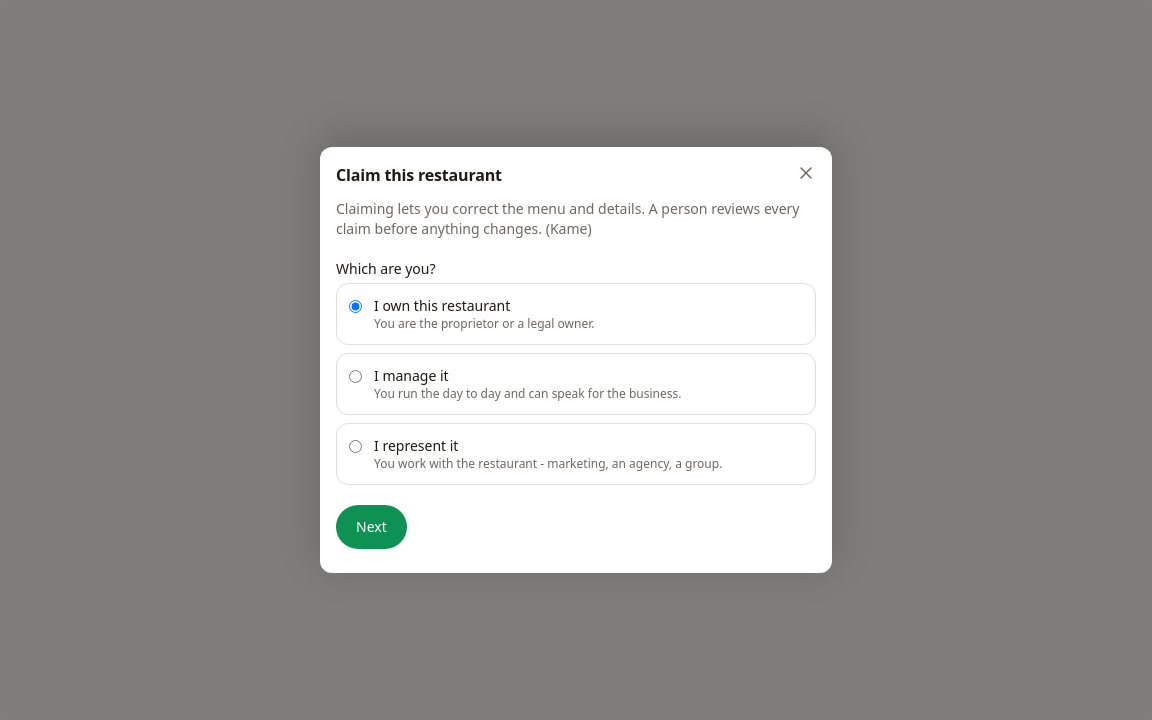
Test case: what it asks for › asks for what the method says it collects
This screenshot has width=1152, height=720.
Expected: the text "Which are you?" is shown, [336,259,436,279]
Step 1. Click the button "Next" → (371, 527), box [336,505,407,549]
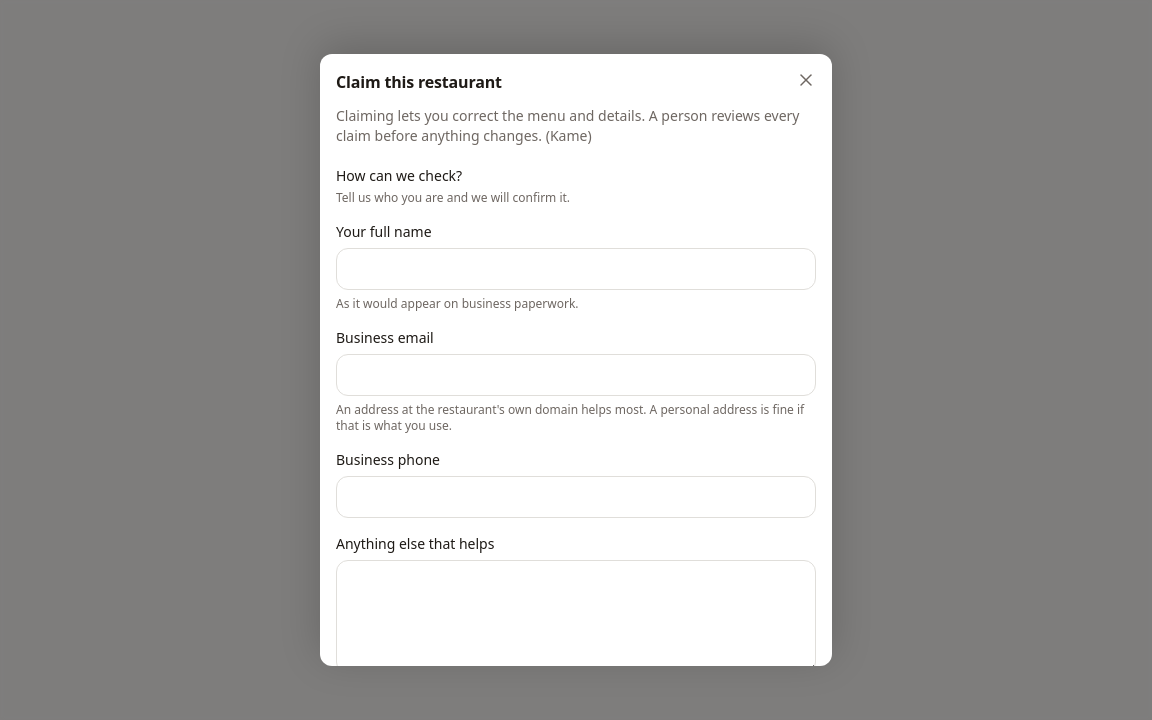
Now the field labelled "Your full name" is shown, box [336,248,816,290]
Now the field labelled "Business email" is shown, box [336,354,816,396]
Now the field labelled "Business phone" is shown, box [336,476,816,518]
